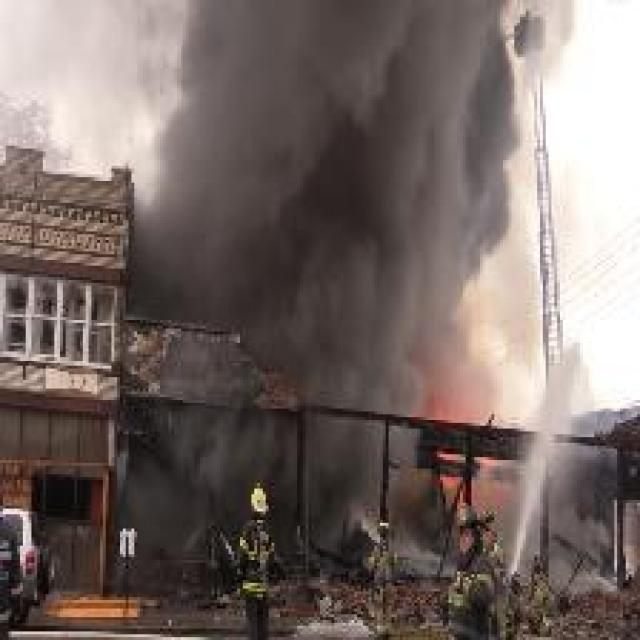fire: (400, 350, 514, 543)
smoke: (119, 4, 527, 568)
